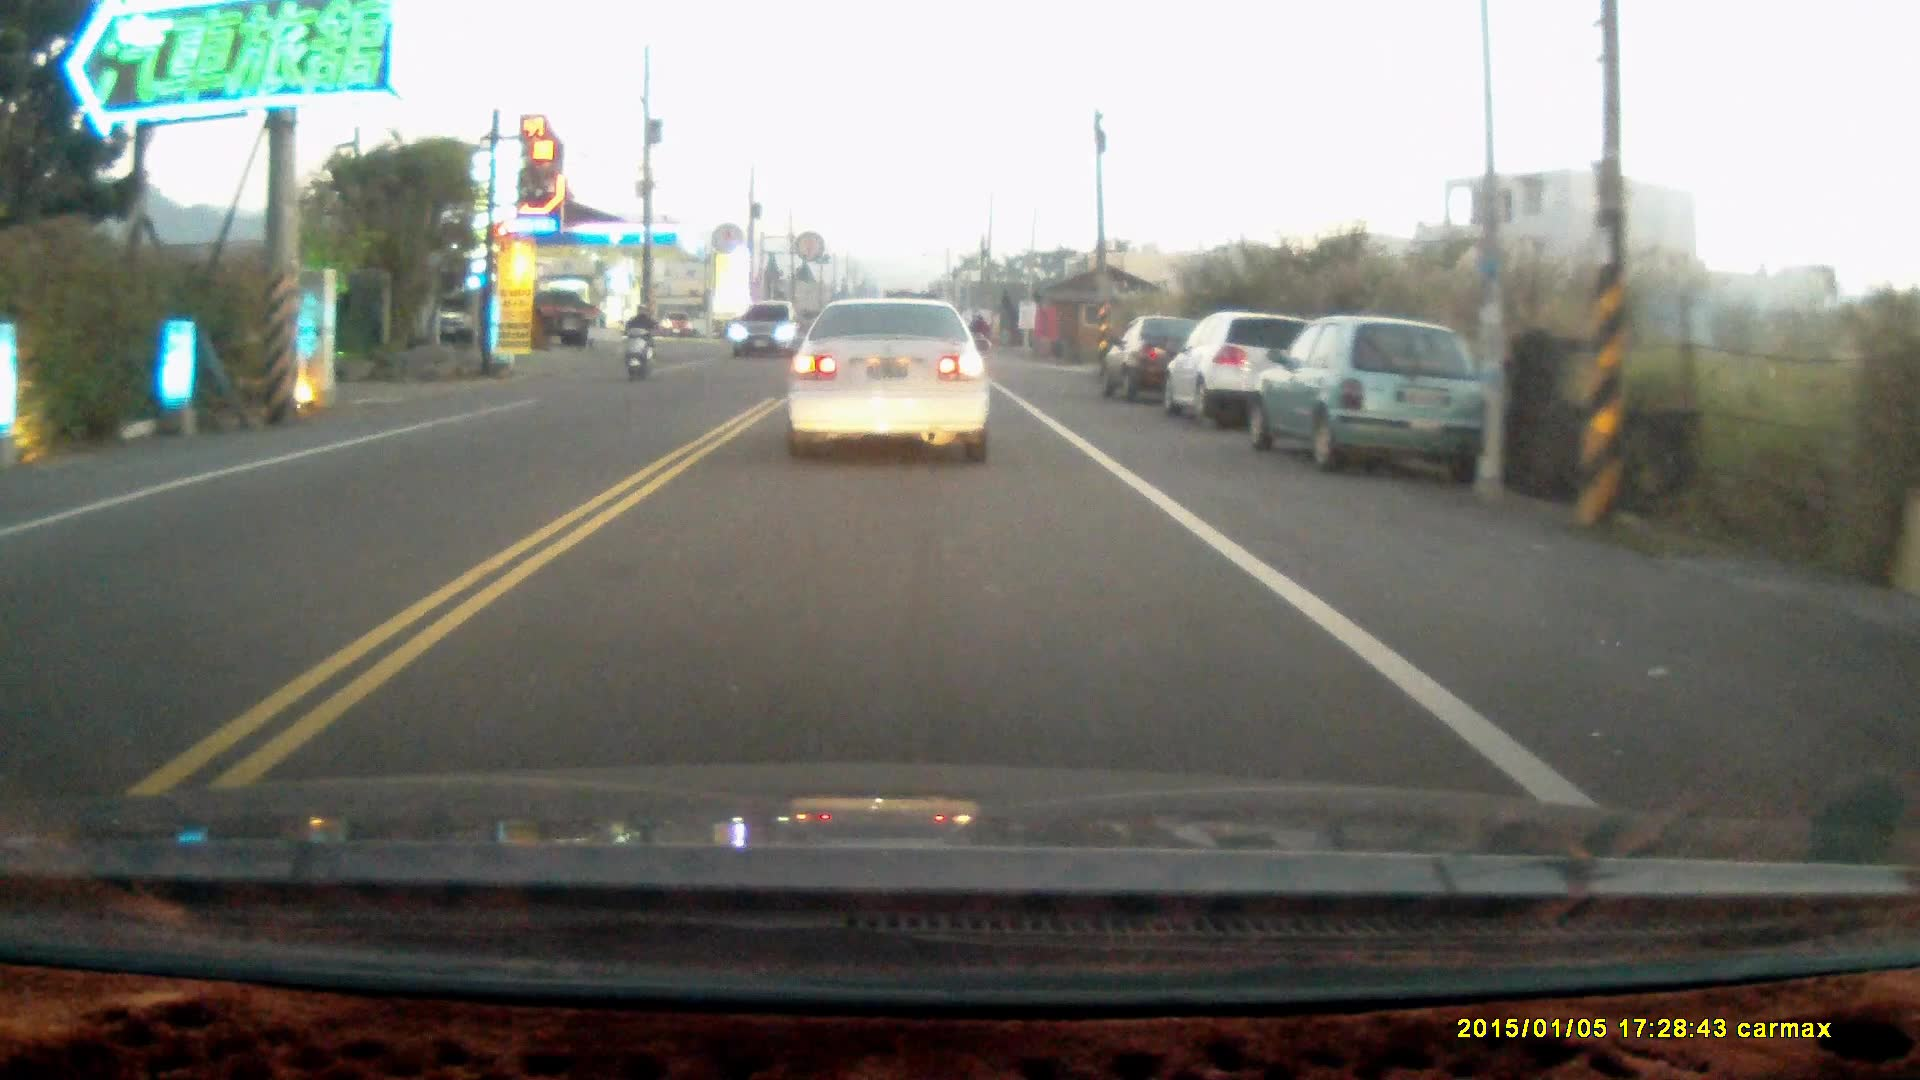rider: (620, 302, 655, 379)
vehicle: (1242, 314, 1489, 474), (787, 293, 998, 466), (1168, 311, 1319, 430), (1105, 315, 1202, 402), (734, 303, 803, 361)
